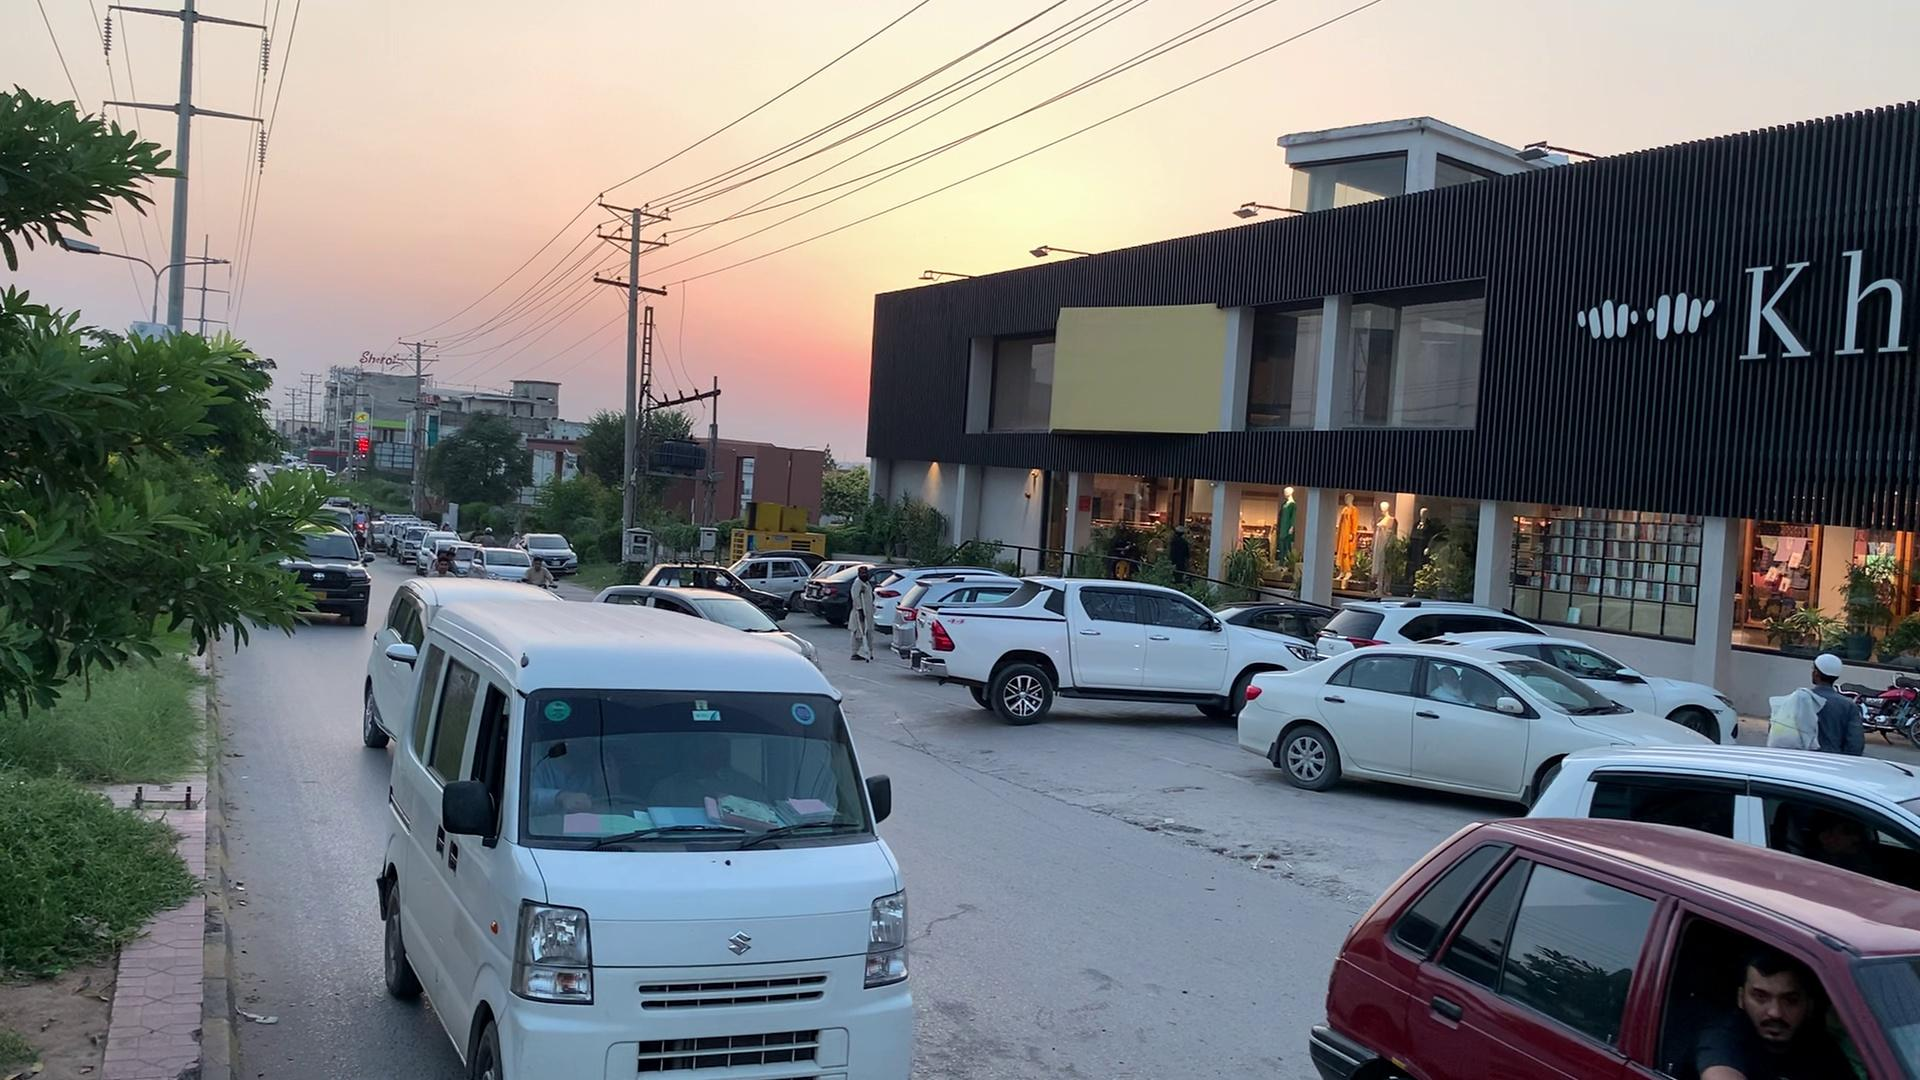windshield: (508, 659, 887, 857)
